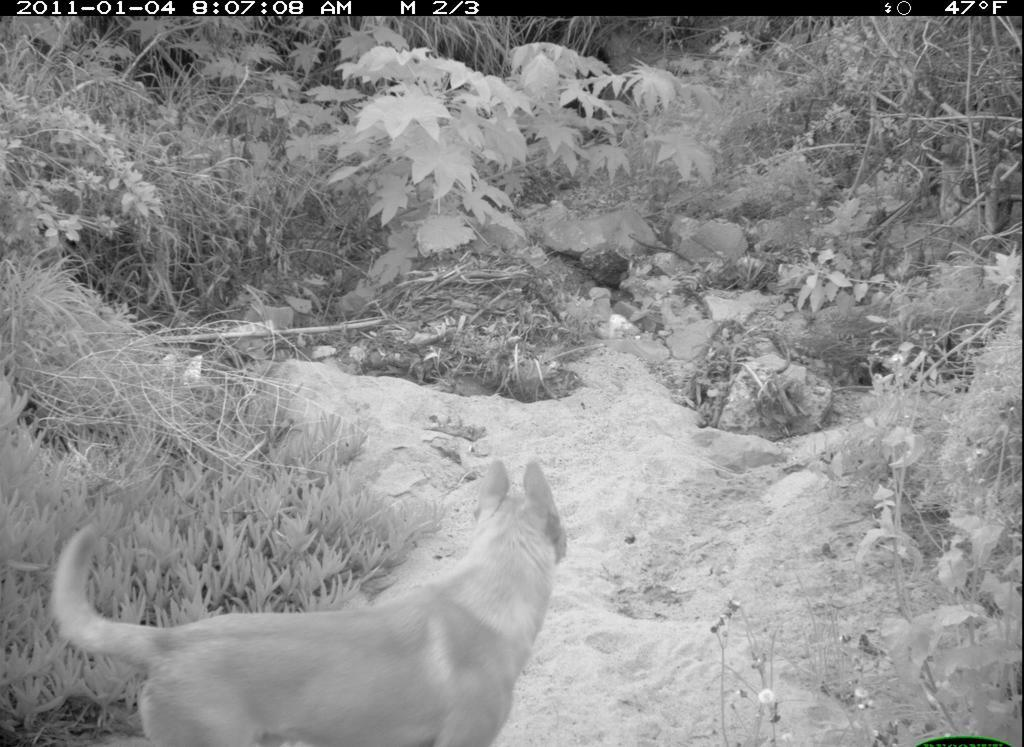dog: (41, 455, 580, 747)
